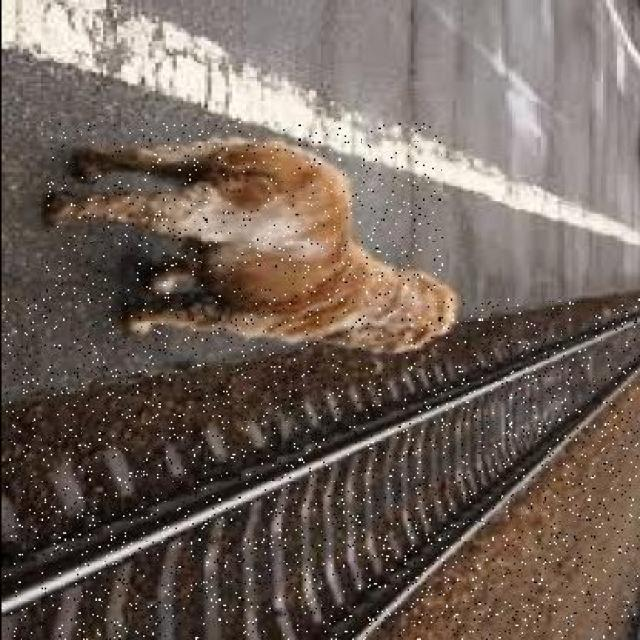danger: (44, 120, 442, 366)
rail: (3, 298, 640, 640)
